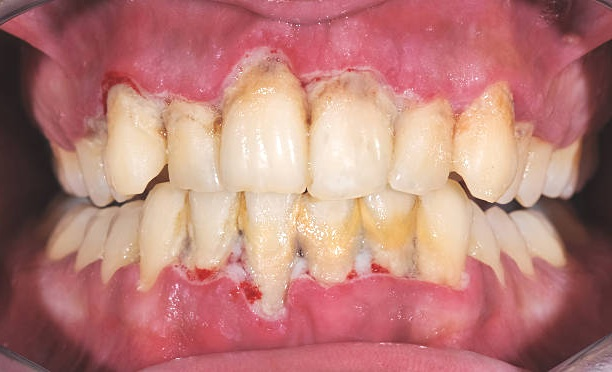Tooth Discoloration: (165, 178, 466, 323), (211, 71, 526, 147)
